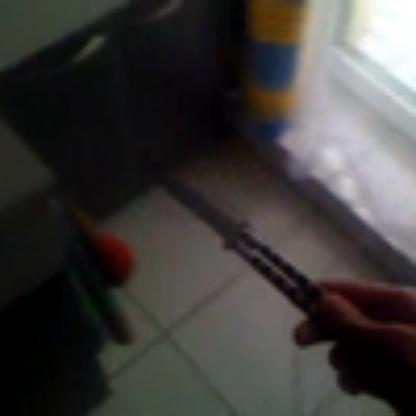knives: (124, 128, 374, 378)
